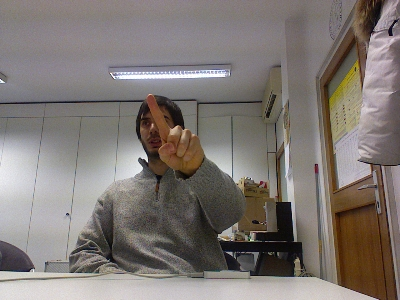食指: (145, 92, 206, 174)
